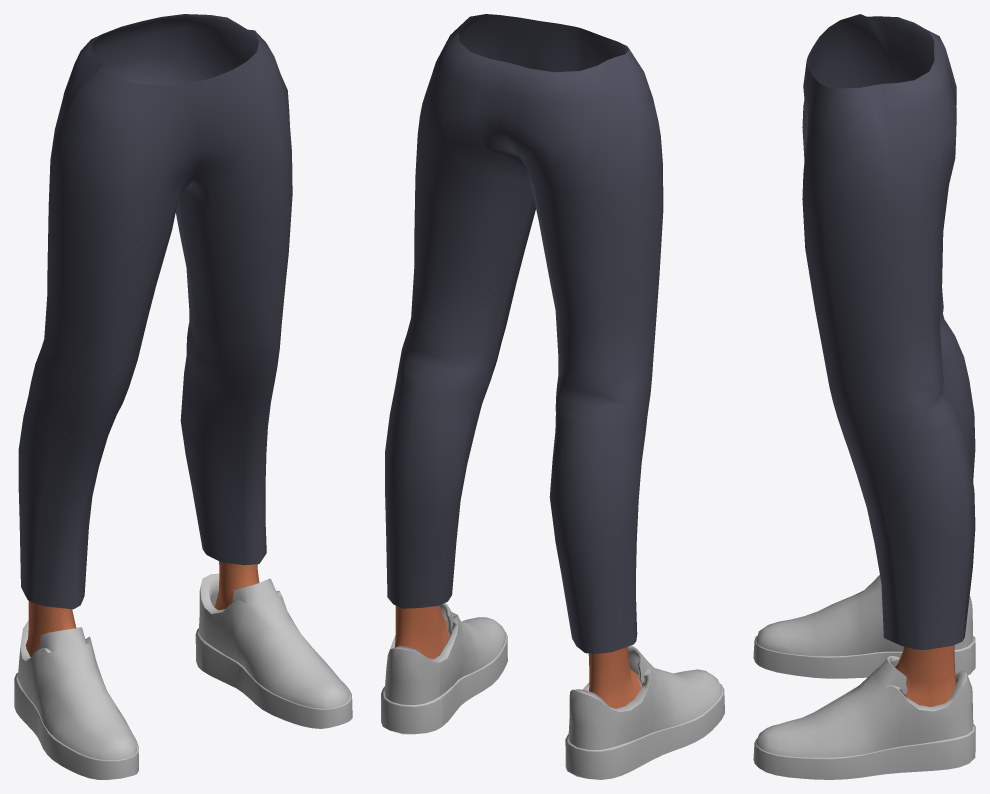
Rendered from woman2_lowerBody.glb.
3 renders of one model, left to right at view 1: azimuth 30°, elevation 25°; view 2: azimuth 150°, elevation 25°; view 3: azimuth 270°, elevation 25°, orthographic. The views are drawn at different scales.
Parts seen in each view (by area): view 1: Wolf3D_Outfit_Bottom.001, Wolf3D_Outfit_Footwear, Wolf3D_Body.002; view 2: Wolf3D_Outfit_Bottom.001, Wolf3D_Outfit_Footwear, Wolf3D_Body.002; view 3: Wolf3D_Outfit_Bottom.001, Wolf3D_Outfit_Footwear, Wolf3D_Body.002.
Boxes of the visible parts, bbox=[...] form: Wolf3D_Outfit_Bottom.001: bbox=[18, 14, 292, 609]; Wolf3D_Outfit_Footwear: bbox=[14, 573, 352, 779]; Wolf3D_Body.002: bbox=[25, 561, 259, 656]; Wolf3D_Outfit_Bottom.001: bbox=[385, 14, 663, 653]; Wolf3D_Outfit_Footwear: bbox=[381, 603, 724, 779]; Wolf3D_Body.002: bbox=[394, 605, 641, 708]; Wolf3D_Outfit_Bottom.001: bbox=[802, 14, 975, 649]; Wolf3D_Outfit_Footwear: bbox=[753, 575, 975, 779]; Wolf3D_Body.002: bbox=[895, 645, 955, 706].
Bounding box in the file's own units: 4.75 × 10.85 × 3.3.
